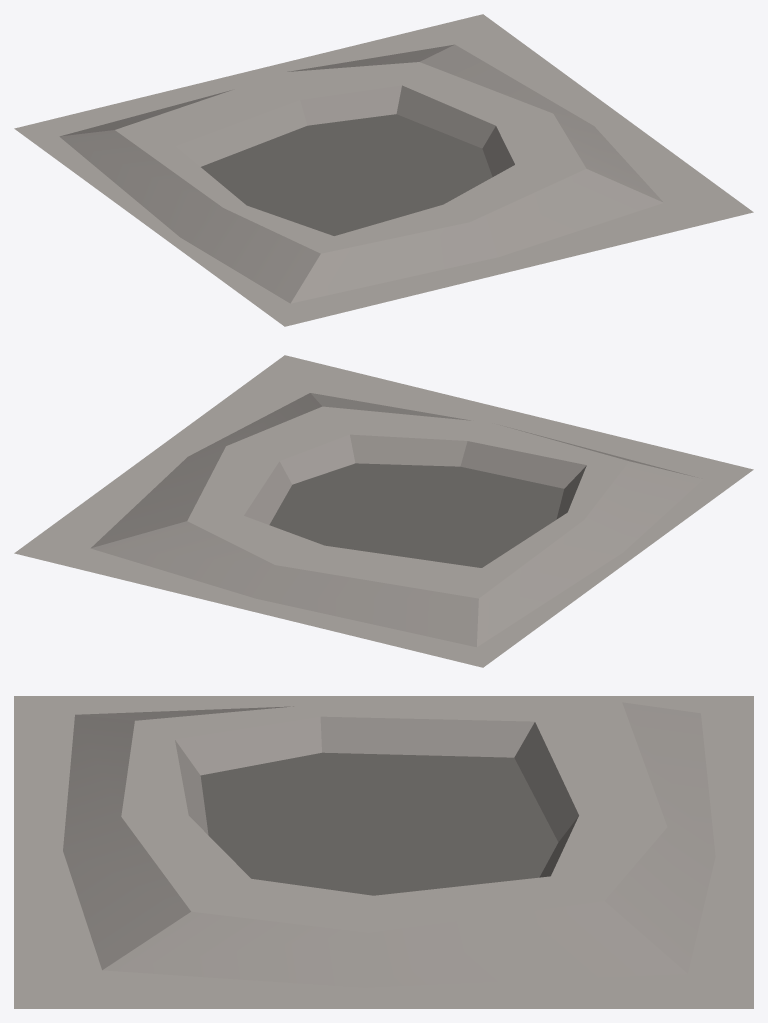
File: SM_Env_Crater_03.fbx
3 views of the same model, one above another, from view 1: azimuth 30°, elevation 25°; view 2: azimuth 150°, elevation 25°; view 3: azimuth 270°, elevation 25° (orthographic). The views are drawn at different scales.
Parts seen in each view (by area): view 1: SM_Env_Crater_03; view 2: SM_Env_Crater_03; view 3: SM_Env_Crater_03.
Part boxes in pixels (bbox=[...]): SM_Env_Crater_03: bbox=[14, 14, 753, 326]; SM_Env_Crater_03: bbox=[14, 355, 753, 667]; SM_Env_Crater_03: bbox=[14, 696, 753, 1008].
Bounding box in the file's own units: 20 × 0.8606 × 20.
